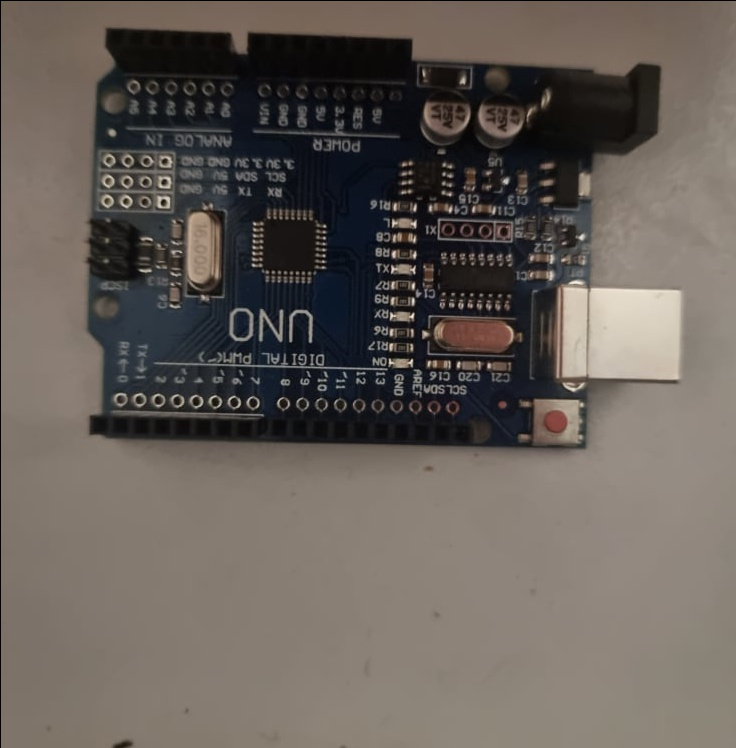UNO R3: (78, 22, 697, 450)
